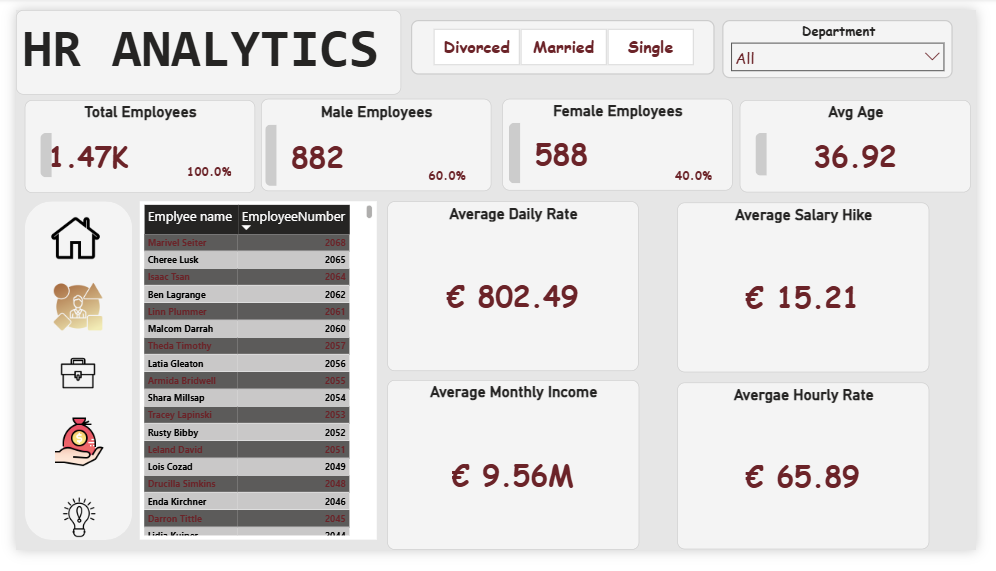

The dashboard page shown, as its layout file describes it:
{"tool":"powerbi","page":{"name":"Employee Salary Rate","canvas":[1280,720],"ordinal":3},"visuals":[{"type":"textbox","box":[0,0,513.8,112.5],"z":0},{"type":"image","box":[37.7,452.6,88.9,64.6],"z":0,"group":"g2"},{"type":"slicer","fields":{"Values":["HR Analytics Data.MaritalStatus"]},"box":[526.2,12.5,405,72.5],"z":1000},{"type":"image","box":[37.7,452.6,88.9,64.6],"z":1000,"group":"g2"},{"type":"slicer","title":"Department","fields":{"Values":["HR Analytics Data.Department"]},"box":[941.2,12.5,307.5,77.5],"z":2000},{"type":"image","box":[37.7,363.7,88.9,64.6],"z":2000,"group":"g2"},{"type":"tableEx","fields":{"Values":["data csv Retrenchment.Emplyee name","HR employee data.EmployeeNumber"]},"box":[165.3,255.5,315.6,450.9],"z":3000},{"type":"image","box":[37.7,363.7,88.9,64.6],"z":3000,"group":"g2"},{"type":"cardVisual","title":"Average Daily Rate","fields":{"Data":["Avg(HR Analytics Data.DailyRate)"]},"box":[494.3,255.7,335,226],"z":4000},{"type":"image","box":[40.4,643.8,88.9,64.6],"z":4000,"group":"g2"},{"type":"cardVisual","title":"Avergae Hourly Rate","fields":{"Data":["Avg(HR Analytics Data.HourlyRate)"]},"box":[882.2,496.7,335.8,222.5],"z":5000},{"type":"image","box":[40.4,643.8,88.9,64.6],"z":5000,"group":"g2"},{"type":"cardVisual","title":"Average  Monthly Income","fields":{"Data":["Sum(HR Analytics Data.MonthlyIncome)"]},"box":[494.8,492.8,335.8,226.5],"z":6000},{"type":"image","box":[40.4,544.2,88.9,64.6],"z":6000,"group":"g2"},{"type":"cardVisual","title":"Average Salary Hike","fields":{"Data":["Avg(HR Analytics Data.PercentSalaryHike)"]},"box":[882.2,256.3,335.8,226.5],"z":7000},{"type":"image","box":[40.4,544.2,88.9,64.6],"z":7000,"group":"g2"},{"type":"cardVisual","title":"Total Employees","fields":{"Data":["Table.total employee","measure cal.% total worker"]},"box":[12.4,119.7,307.1,124.2],"z":8000},{"type":"image","box":[35,272.1,88.9,64.6],"z":8000,"group":"g2"},{"type":"cardVisual","title":"Male Employees","fields":{"Data":["Table.male","measure cal.% male employees"]},"box":[327.5,118.6,307.1,123.1],"z":9000},{"type":"image","box":[35,272.1,88.9,64.6],"z":9000,"group":"g2"},{"type":"cardVisual","title":"Female Employees","fields":{"Data":["Table.Female","measure cal.% female emp"]},"box":[647.5,119,307,122.5],"z":10000},{"type":"cardVisual","title":"Avg Age","fields":{"Data":["measure cal.Avg Age"]},"box":[965.4,119.7,308.3,123.1],"z":11000},{"type":"group","id":"g1","title":"Group 1","box":[12.4,255.2,143.4,453.2],"z":11001},{"type":"shape","box":[12.4,255.2,143.4,451.7],"z":14000,"group":"g1"},{"type":"group","id":"g2","title":"Group 2","box":[35,272.1,94.3,436.4],"z":17002,"group":"g1"}]}

Visuals, with their boxes in screenshot pixels (x1, y1, x2, y2), scaled from the page's 1280x720 canvas onto the 996x571 screenshot:
textbox: box(0, 0, 400, 89)
image: box(29, 359, 99, 410)
slicer - HR Analytics Data.MaritalStatus: box(409, 10, 725, 67)
image: box(29, 359, 99, 410)
"Department" slicer: box(732, 10, 972, 71)
image: box(29, 288, 99, 340)
tableEx - data csv Retrenchment.Emplyee name x HR employee data.EmployeeNumber: box(129, 203, 374, 560)
image: box(29, 288, 99, 340)
"Average Daily Rate" cardVisual: box(385, 203, 645, 382)
image: box(31, 511, 101, 562)
"Avergae Hourly Rate" cardVisual: box(686, 394, 948, 570)
image: box(31, 511, 101, 562)
"Average  Monthly Income" cardVisual: box(385, 391, 646, 570)
image: box(31, 432, 101, 483)
"Average Salary Hike" cardVisual: box(686, 203, 948, 383)
image: box(31, 432, 101, 483)
"Total Employees" cardVisual: box(10, 95, 249, 193)
image: box(27, 216, 96, 267)
"Male Employees" cardVisual: box(255, 94, 494, 192)
image: box(27, 216, 96, 267)
"Female Employees" cardVisual: box(504, 94, 743, 192)
"Avg Age" cardVisual: box(751, 95, 991, 193)
"Group 1" group: box(10, 202, 121, 562)
shape: box(10, 202, 121, 561)
"Group 2" group: box(27, 216, 101, 562)
